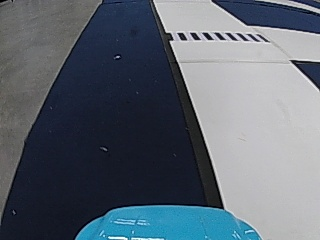CrossWalk: (169, 28, 260, 43)
